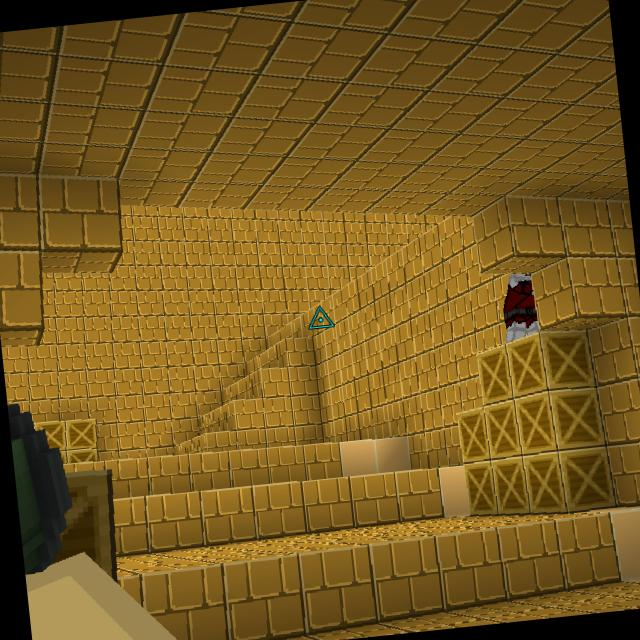enemy: (496, 270, 538, 344)
